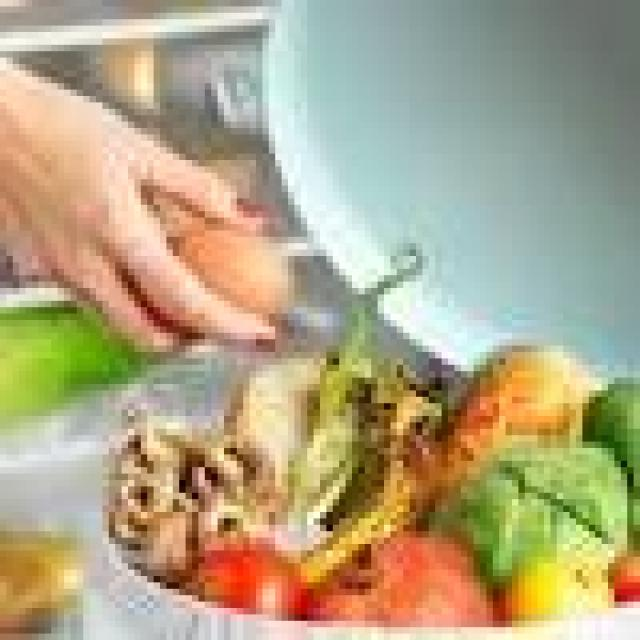Food -Biodegradable-: (105, 336, 640, 629)
